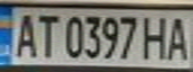0: (60, 11, 84, 58)
3: (81, 11, 103, 60)
7: (118, 12, 142, 60)
9: (100, 12, 121, 60)
A: (9, 9, 39, 58), (163, 12, 193, 61)
H: (139, 12, 172, 61)
T: (33, 10, 60, 58)
